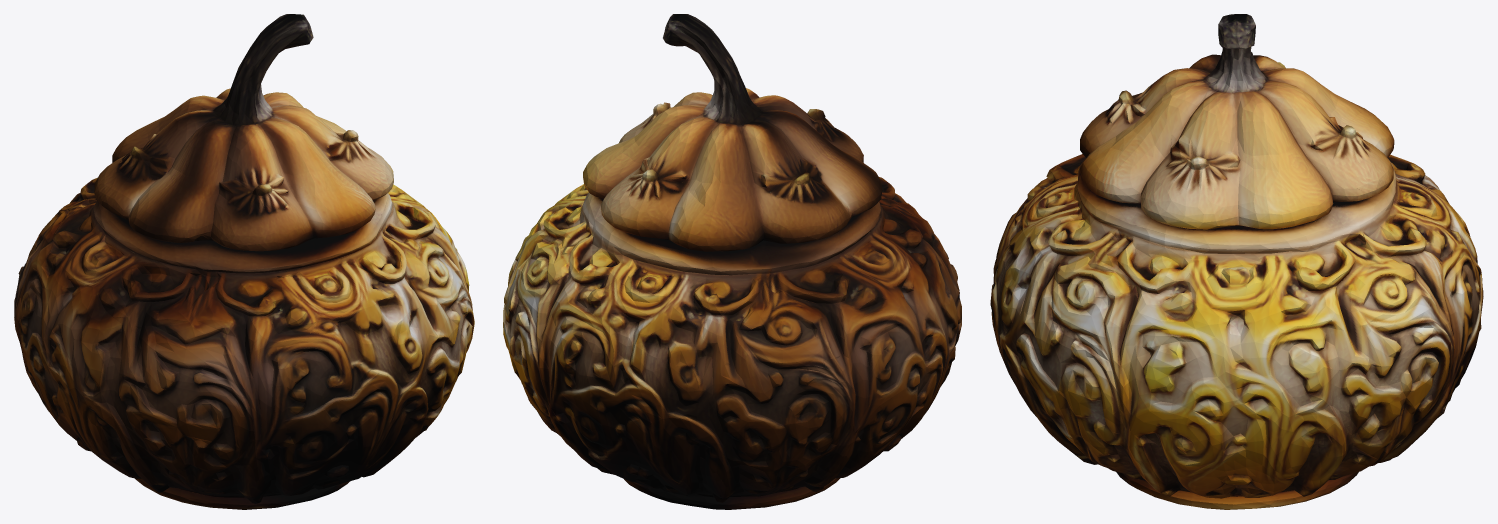
Rendered from dried-gourd-container-aged-hyperrealistic-furniture.jpeg.glb.
The picture shows the model from 3 angles, left to right: view 1: azimuth 30°, elevation 25°; view 2: azimuth 150°, elevation 25°; view 3: azimuth 270°, elevation 25°; orthographic projection. The views are drawn at different scales.
Visible parts, largest first — view 1: world; view 2: world; view 3: world.
Boxes of the visible parts, left/top/right/bottom form: world: left=14, top=14, right=474, bottom=509; world: left=503, top=14, right=961, bottom=509; world: left=990, top=14, right=1483, bottom=509.
Size of the model in its own units: 0.9512 by 1 by 0.9551.
1 material, 1 textured.
